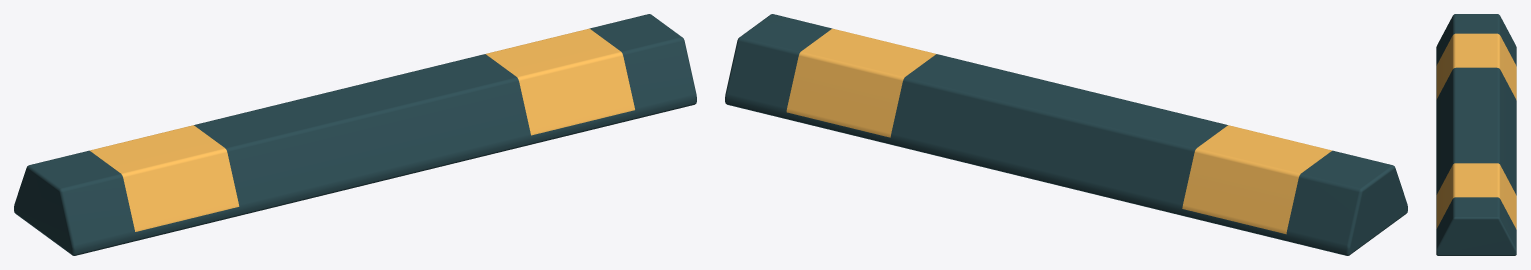
Rendered from city_parking_furniture_01.glb.
3 views of the same model, side by side, from view 1: azimuth 30°, elevation 25°; view 2: azimuth 150°, elevation 25°; view 3: azimuth 270°, elevation 25° (orthographic). The views are drawn at different scales.
Parts seen in each view (by area): view 1: CityParkingFurniture01_Mesh; view 2: CityParkingFurniture01_Mesh; view 3: CityParkingFurniture01_Mesh.
Part boxes in pixels (x1,y1,x2,y2): CityParkingFurniture01_Mesh: (14,14,696,255); CityParkingFurniture01_Mesh: (725,14,1407,255); CityParkingFurniture01_Mesh: (1436,14,1516,255).
Size of the model in its own units: 1.8 by 0.16 by 0.3.
